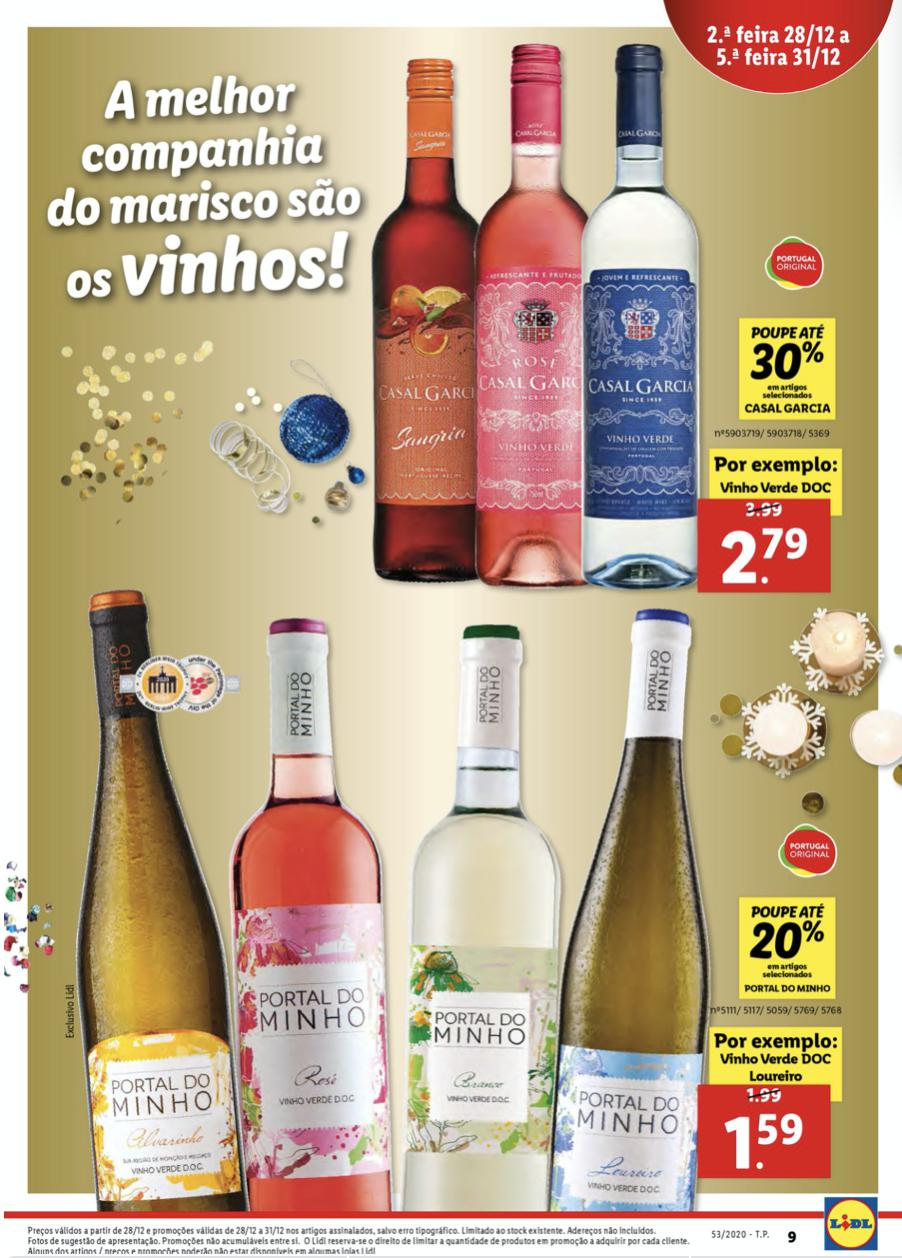price: (715, 522, 815, 590), (718, 1108, 805, 1175)
product: (72, 605, 855, 1186), (346, 36, 849, 594)
promotion: (744, 337, 829, 383), (747, 919, 830, 961)
